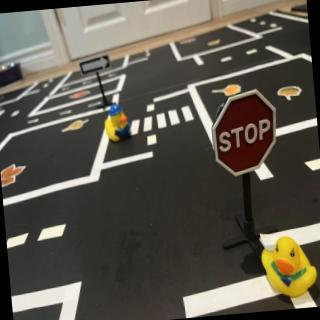duck_regular: (261, 236, 320, 301)
duck_specialty: (105, 105, 133, 144)
road_crosswalk: (130, 103, 200, 139)
road_oneway: (27, 119, 43, 128), (87, 102, 105, 110), (60, 111, 76, 119)
sign_oneway_right: (77, 51, 115, 79)
sign_stop: (209, 90, 283, 181)
